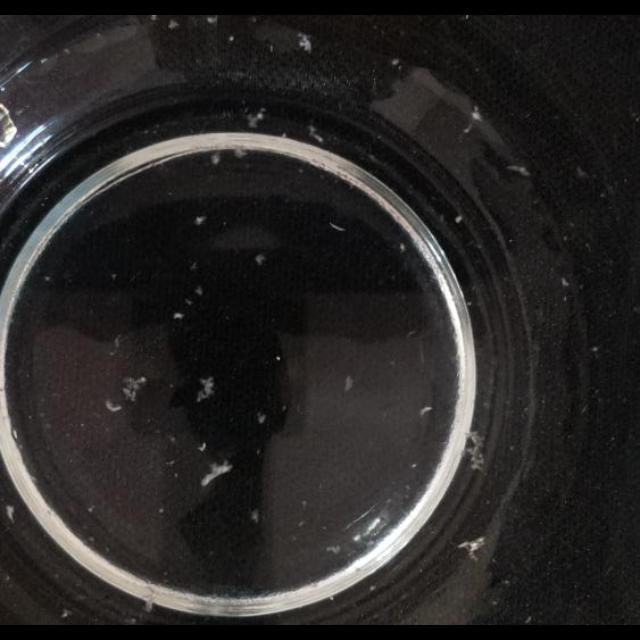Fibre: (464, 430, 486, 468), (119, 376, 147, 404), (195, 377, 215, 403), (246, 108, 266, 128), (307, 125, 325, 143), (508, 164, 530, 178), (298, 34, 312, 52), (344, 375, 354, 393), (471, 108, 483, 122)
microbeads: (210, 152, 222, 166), (233, 147, 247, 159), (324, 545, 340, 555), (576, 166, 588, 178), (255, 254, 267, 266), (250, 511, 260, 524), (257, 412, 267, 424), (195, 215, 207, 225), (420, 406, 432, 416), (168, 20, 180, 30), (168, 435, 178, 445), (196, 441, 206, 451), (390, 57, 400, 67), (60, 609, 70, 619), (166, 458, 176, 468), (398, 242, 406, 254), (172, 312, 184, 320), (206, 15, 218, 23), (194, 285, 203, 295), (190, 261, 198, 271), (590, 344, 600, 352), (87, 504, 95, 514), (562, 276, 570, 286), (298, 518, 306, 528), (455, 214, 463, 224), (410, 462, 418, 470), (227, 34, 235, 42), (369, 584, 377, 592), (185, 297, 193, 305), (302, 499, 308, 508), (112, 272, 118, 280), (275, 354, 281, 362), (44, 276, 50, 282), (158, 508, 164, 514)
